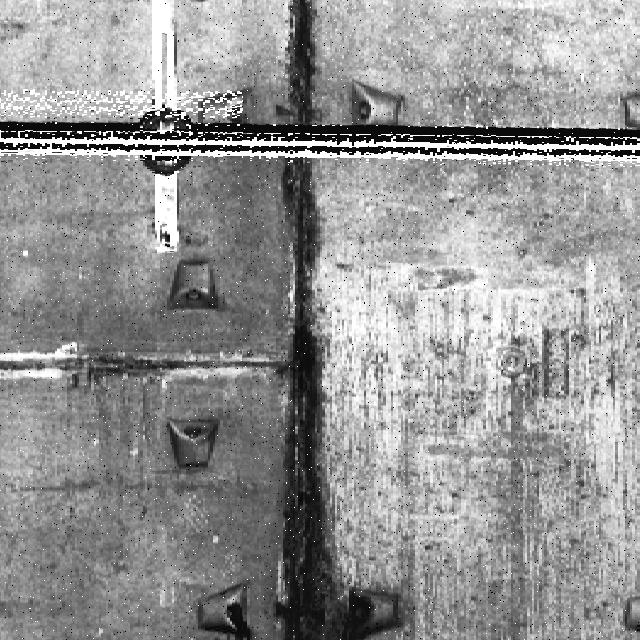leakage: (266, 0, 344, 639)
